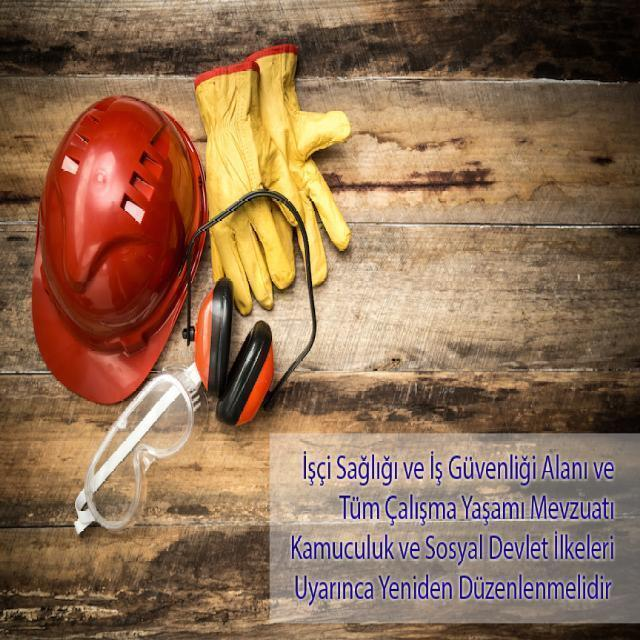red helmet: (28, 91, 208, 406)
